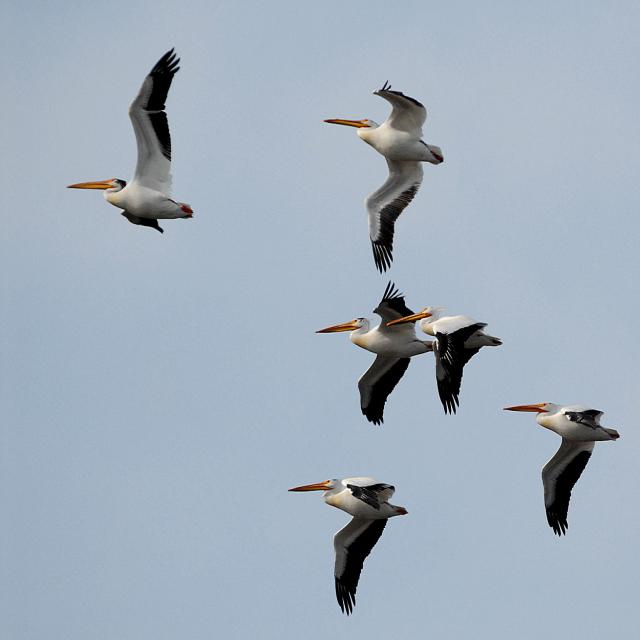bird: (316, 73, 452, 276), (65, 46, 202, 245), (289, 476, 412, 608), (503, 396, 619, 523), (318, 282, 430, 413)
